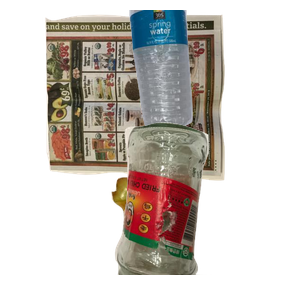glass: (112, 120, 300, 300)
paper: (42, 12, 260, 185)
plastic: (127, 10, 300, 134)
trash: (109, 175, 279, 300)
